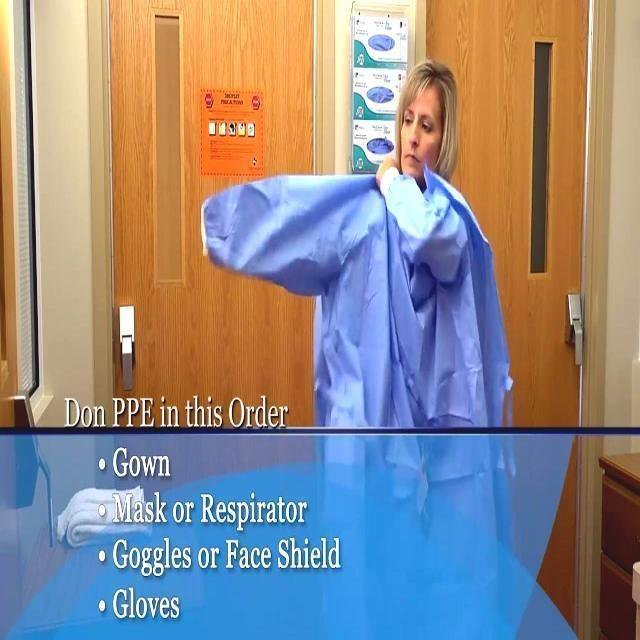no_hairnet: (401, 132, 444, 180)
